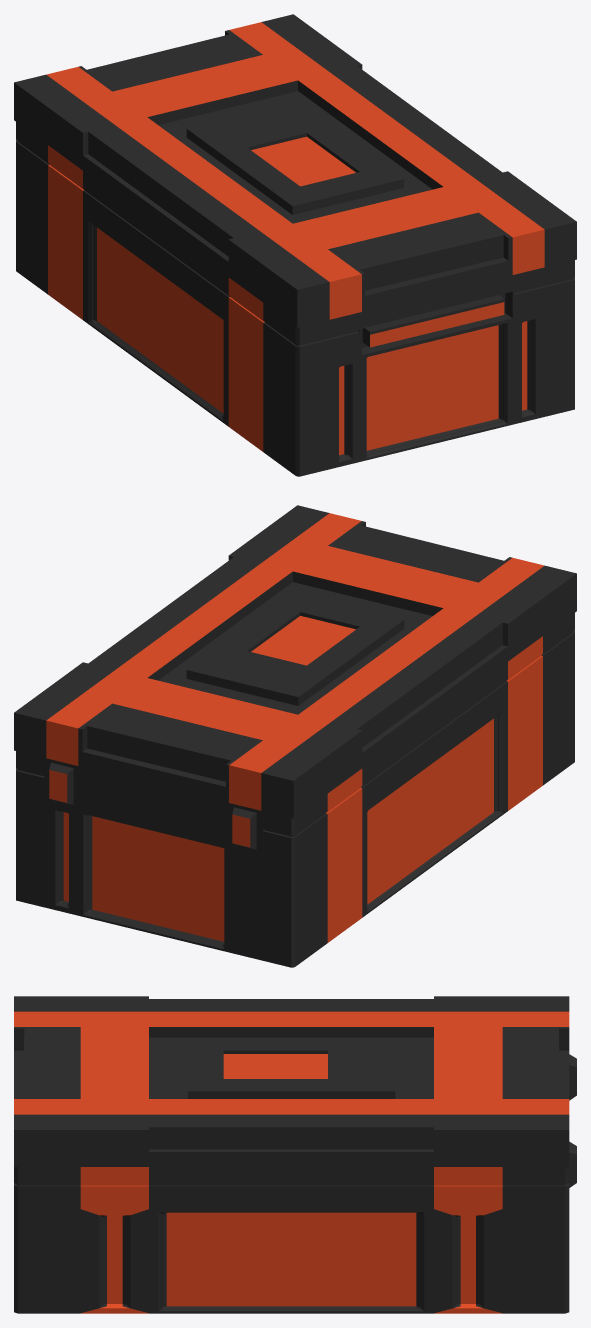
3 renders of one model, top to bottom at view 1: azimuth 30°, elevation 25°; view 2: azimuth 150°, elevation 25°; view 3: azimuth 270°, elevation 25°, orthographic. The views are drawn at different scales.
Visible parts, largest first — view 1: Cube.002, Cube.001; view 2: Cube.002, Cube.001; view 3: Cube.002, Cube.001.
Part boxes in pixels (box(x1,y1,x2,y2)): Cube.002: box(14, 14, 576, 327); Cube.001: box(16, 122, 574, 476); Cube.002: box(14, 505, 576, 818); Cube.001: box(16, 613, 574, 967); Cube.002: box(14, 996, 569, 1166); Cube.001: box(14, 1054, 576, 1313).
Bounding box in the file's own units: 100 × 64.5 × 178.
